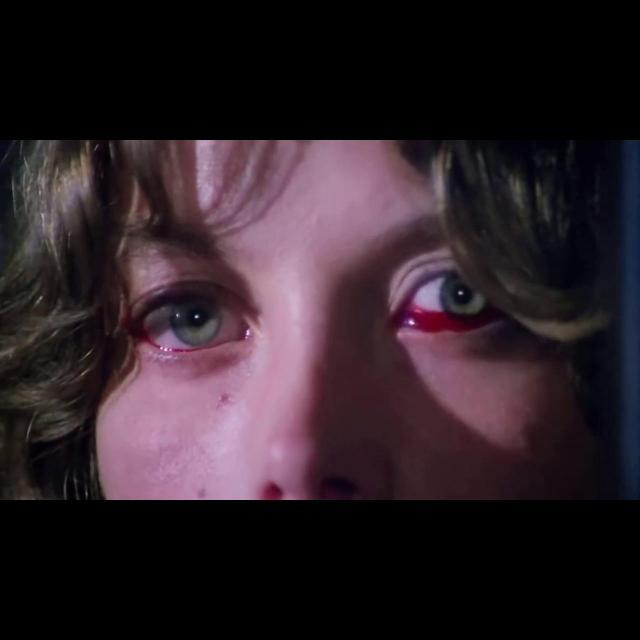blood: (402, 304, 502, 332)
